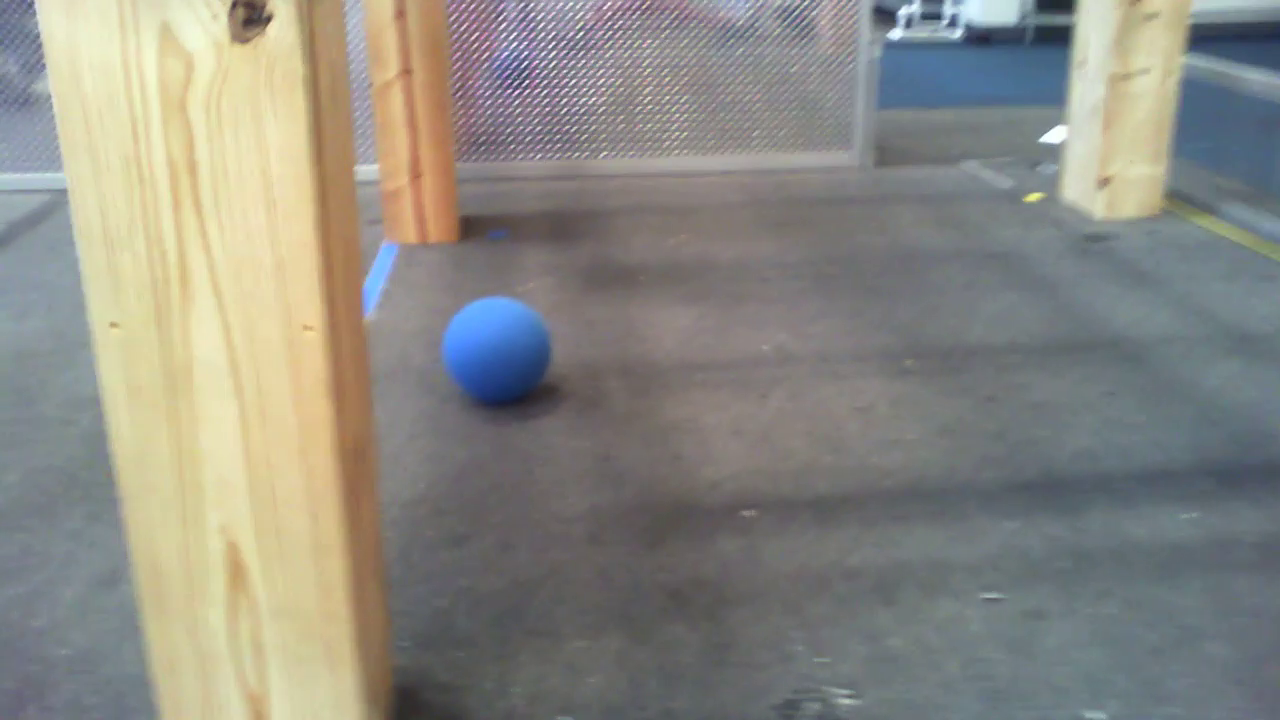blue_cargo: (435, 297, 557, 396)
